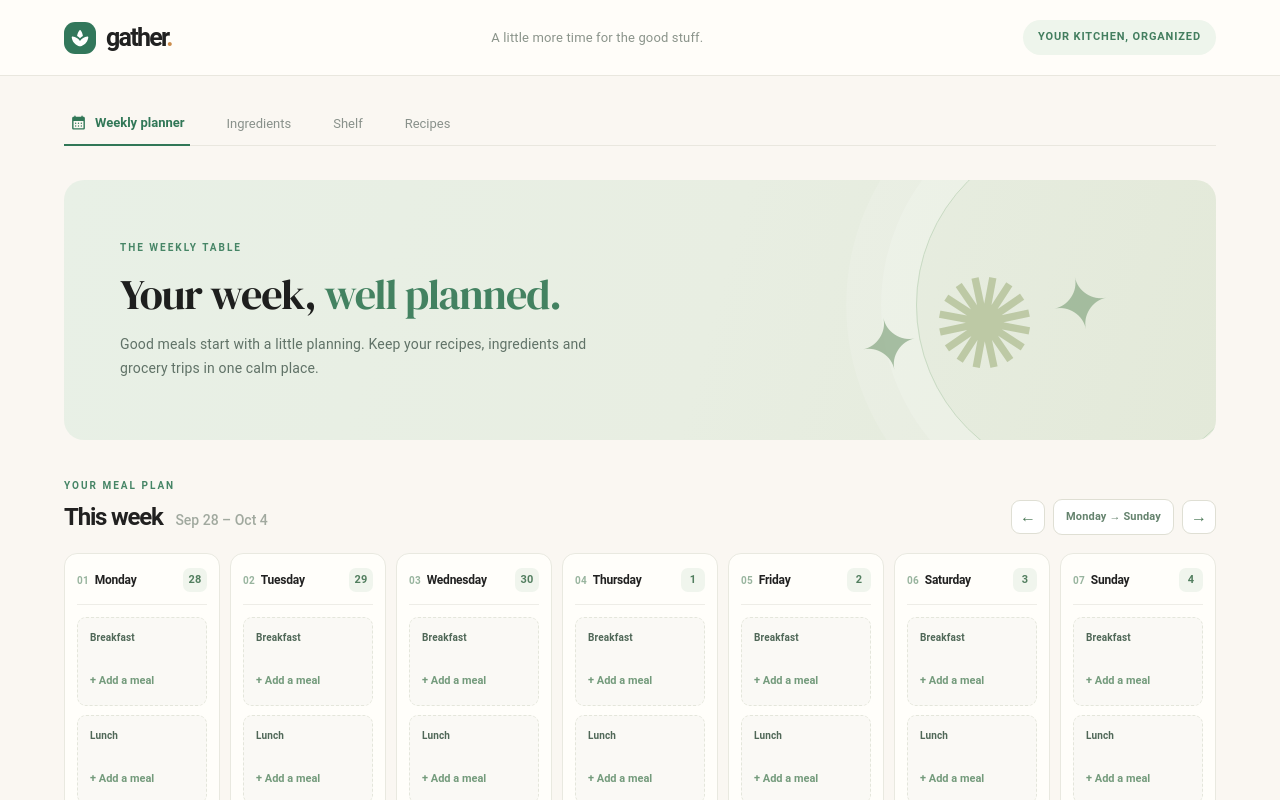
Scenario: weekly meal planner › shows purchased quantities and storage with a freshness progress bar and expired warning
Click the button "Shelf". click: (348, 124)
box: [327,102,369,146]
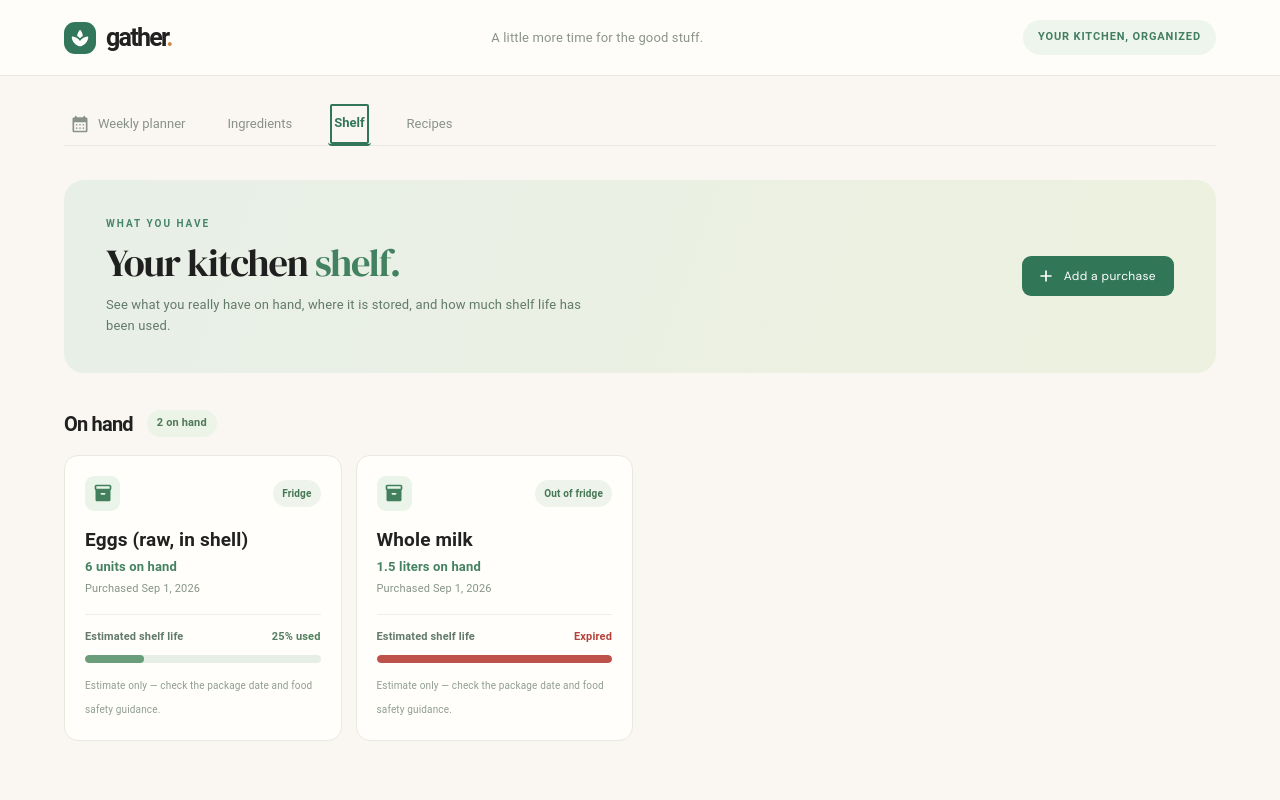
Expected: the text "2 on hand" is shown, [147,410,217,437]
Expected: the text "6 units on hand" is shown, [85,559,177,574]
Expected: the text "Fridge" is shown, [273,480,320,507]
